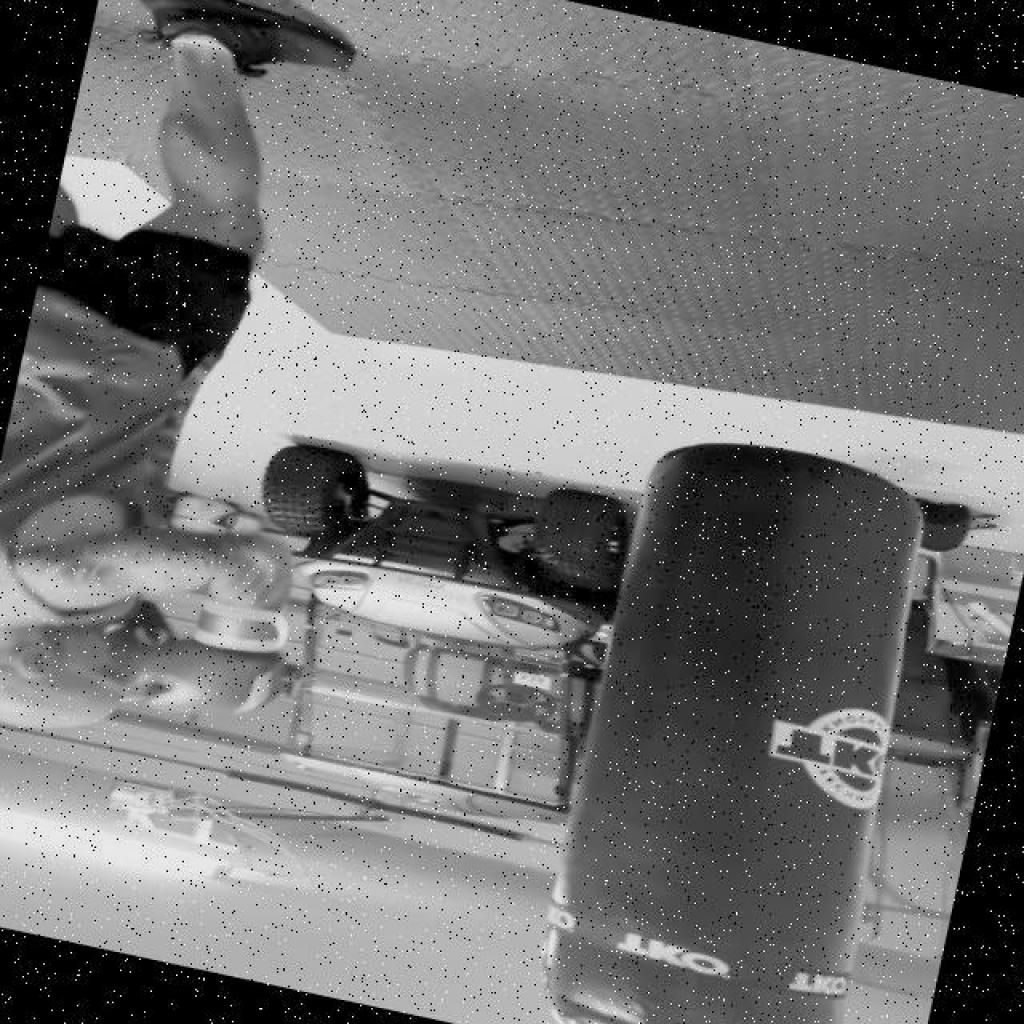bag: (509, 406, 957, 1024)
no punch: (2, 438, 352, 810)
